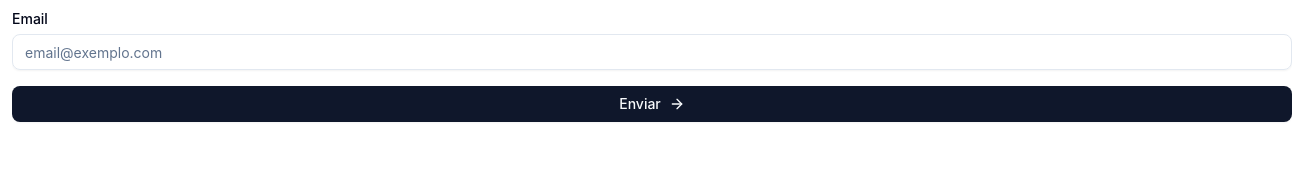
Development password recovery › shows the server development token
The image size is (1304, 172).
In the field labelled "Email": (652, 52) x1=12 y1=34 x2=1292 y2=70, type "manager@example.test"
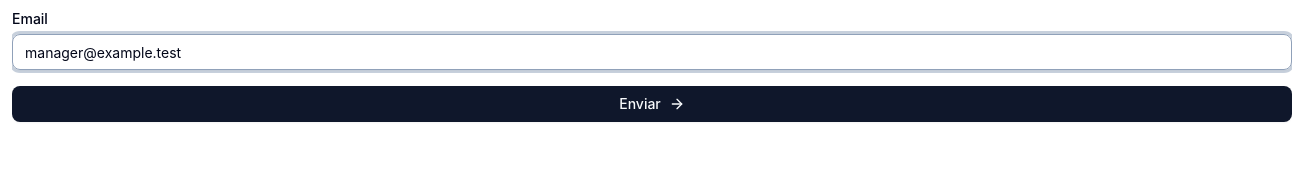
Click the button "Enviar": (652, 104) x1=12 y1=86 x2=1292 y2=122
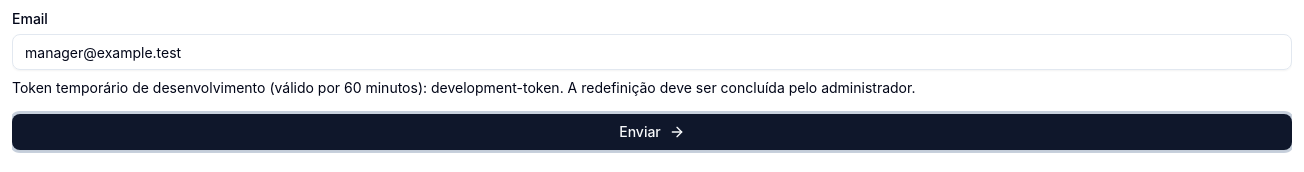
Result: the message shows "development-token" at x1=431 y1=79 x2=560 y2=96
